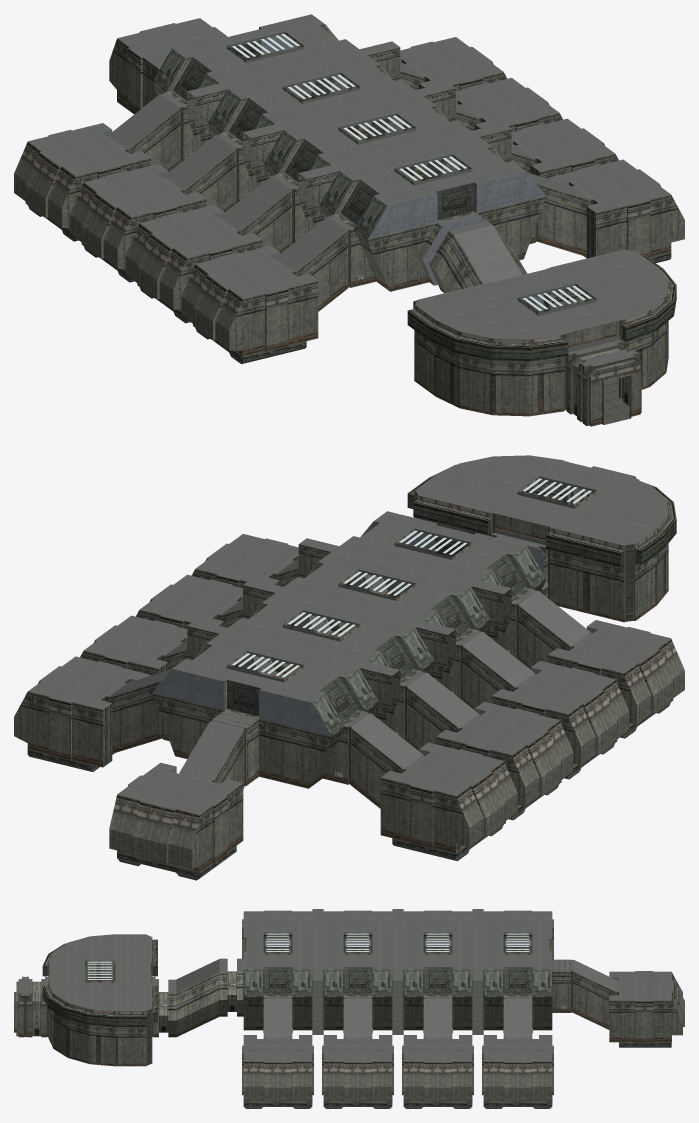
File: poi_all_impl_bunker_crimelord_retreat_s01_r41_jailcells_mesh_r41.fbx
The picture shows the model from 3 angles, top to bottom: view 1: azimuth 30°, elevation 25°; view 2: azimuth 150°, elevation 25°; view 3: azimuth 270°, elevation 25°; orthographic projection. The views are drawn at different scales.
Parts seen in each view (by area): view 1: mesh_node; view 2: mesh_node; view 3: mesh_node.
Part boxes in pixels (bbox=[...]): mesh_node: bbox=[14, 14, 684, 426]; mesh_node: bbox=[14, 455, 684, 880]; mesh_node: bbox=[14, 909, 684, 1108].
Size of the model in its own units: 33.33 by 8.81 by 58.71.
